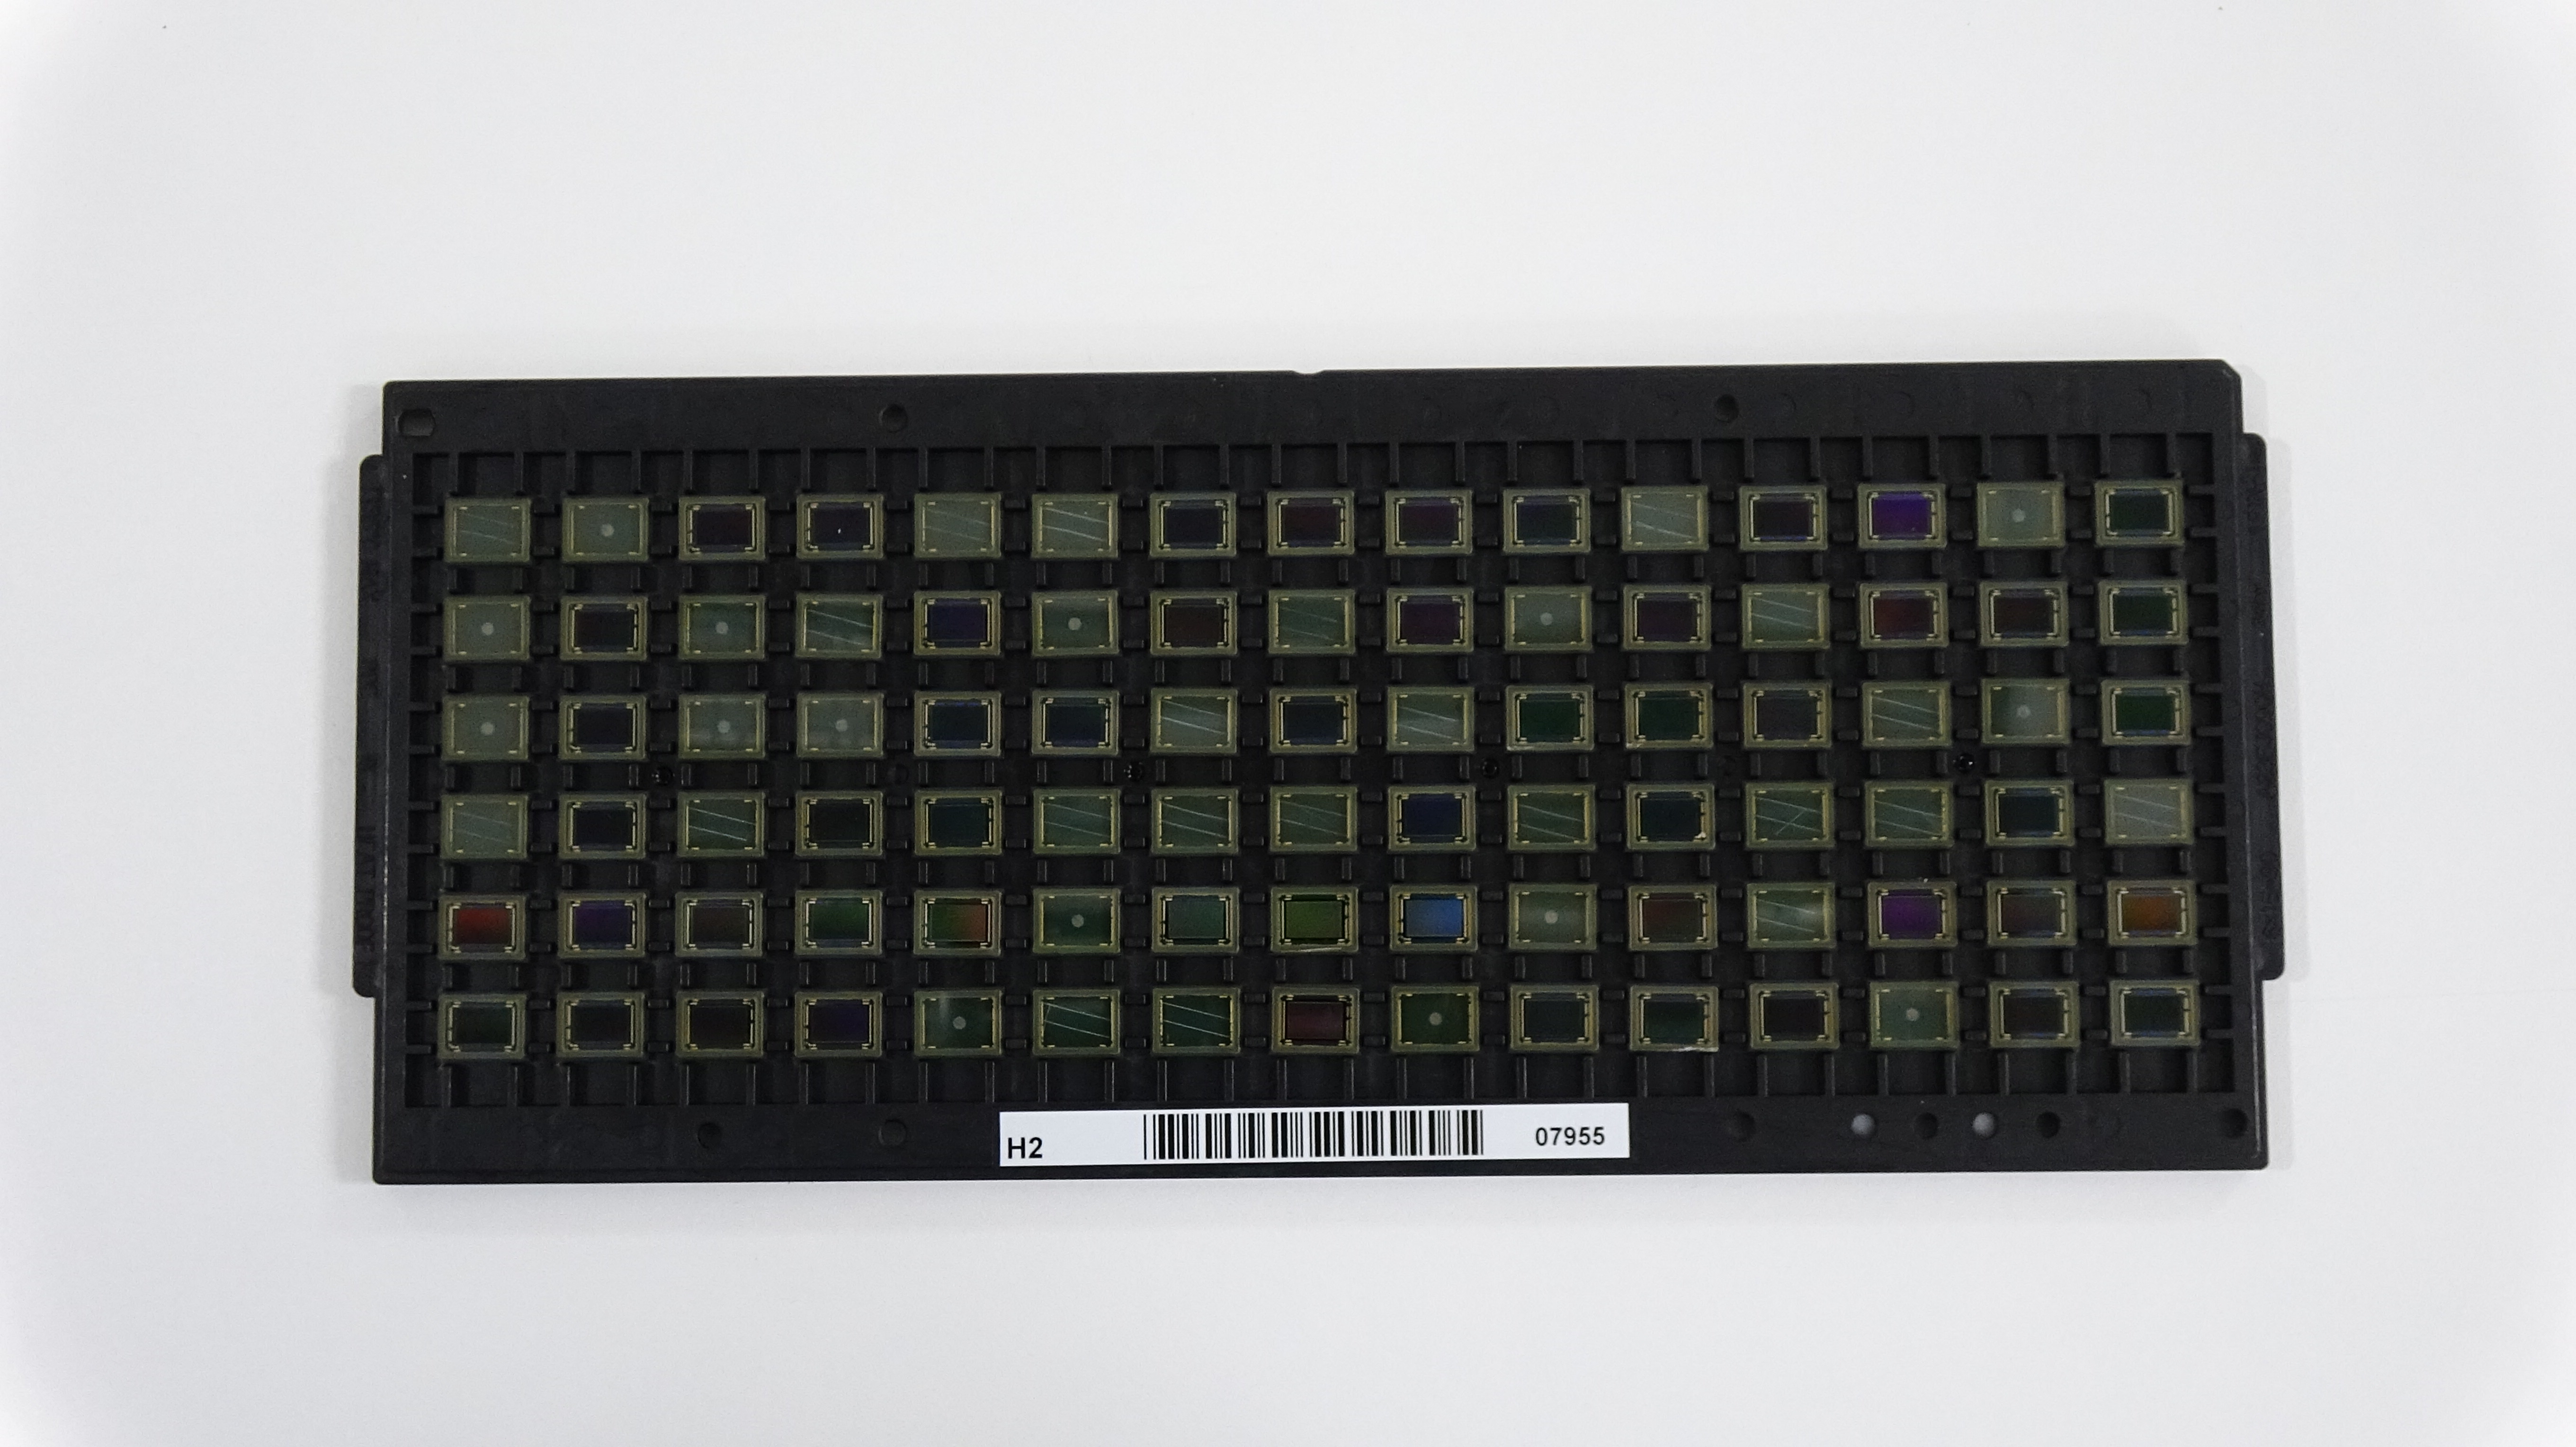Bad_mark_from_BMS_mold: (1507, 782, 1599, 853), (1861, 780, 1957, 847), (794, 589, 883, 662), (1865, 679, 1955, 750), (2100, 778, 2197, 844), (1146, 686, 1238, 755), (1031, 985, 1123, 1054), (674, 789, 766, 858), (442, 495, 531, 566), (1739, 582, 1831, 649), (1619, 483, 1706, 554), (1270, 782, 1359, 851), (1385, 685, 1476, 752), (1031, 787, 1122, 854), (911, 492, 1001, 559), (1743, 780, 1835, 846), (1746, 881, 1833, 950), (1031, 492, 1118, 561), (442, 792, 529, 861), (1150, 985, 1238, 1053), (1267, 589, 1353, 656), (1148, 789, 1235, 853)
Bad_mark_from_Maker: (1867, 978, 1962, 1049), (1507, 881, 1599, 953), (1387, 984, 1481, 1054), (1502, 584, 1594, 655), (676, 593, 766, 663), (1030, 886, 1122, 955), (439, 692, 529, 761), (794, 690, 886, 757), (676, 692, 766, 759), (913, 989, 1003, 1056), (1030, 589, 1118, 656), (1980, 678, 2070, 743), (444, 593, 531, 660), (561, 497, 646, 564), (1974, 483, 2066, 545)
